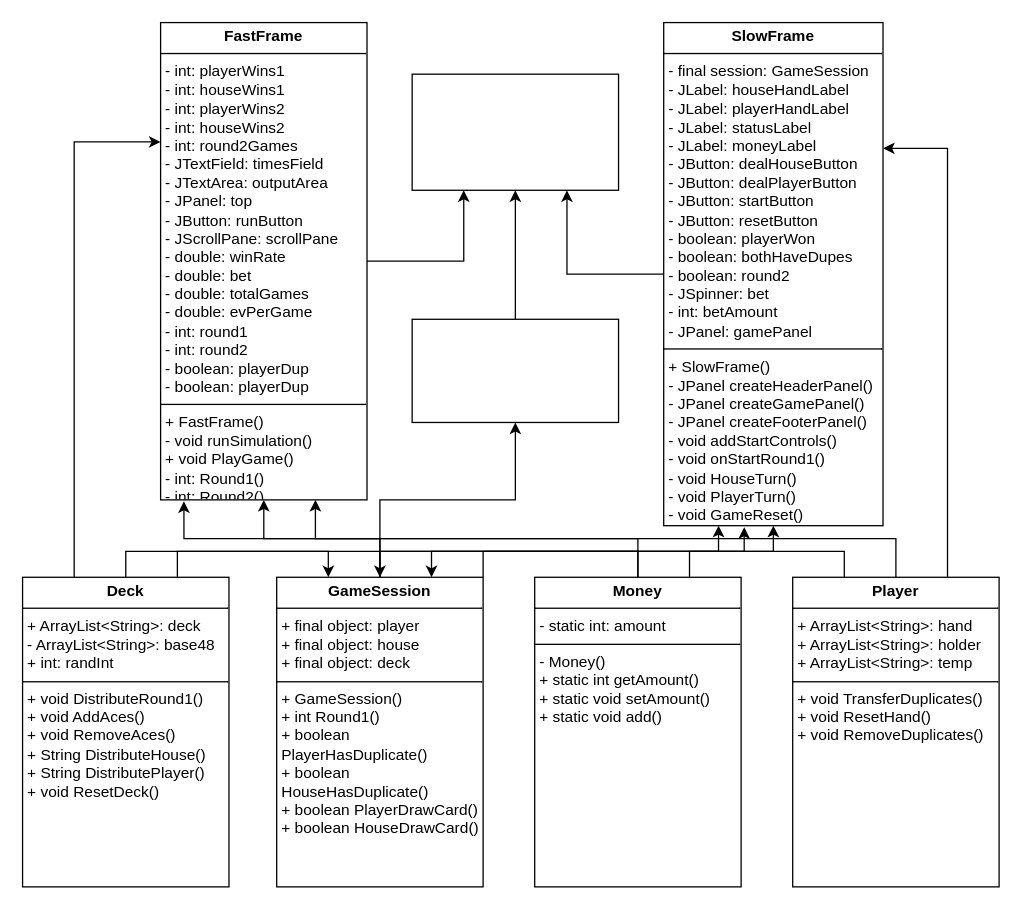
Image size: 1022x909. Some labels were removed from this diagram. Each missing label, with the centre of its shape:
"Main + static void: main()" goes at (515,370).
"MenuFrame + MenuFrame()" goes at (515,131).
